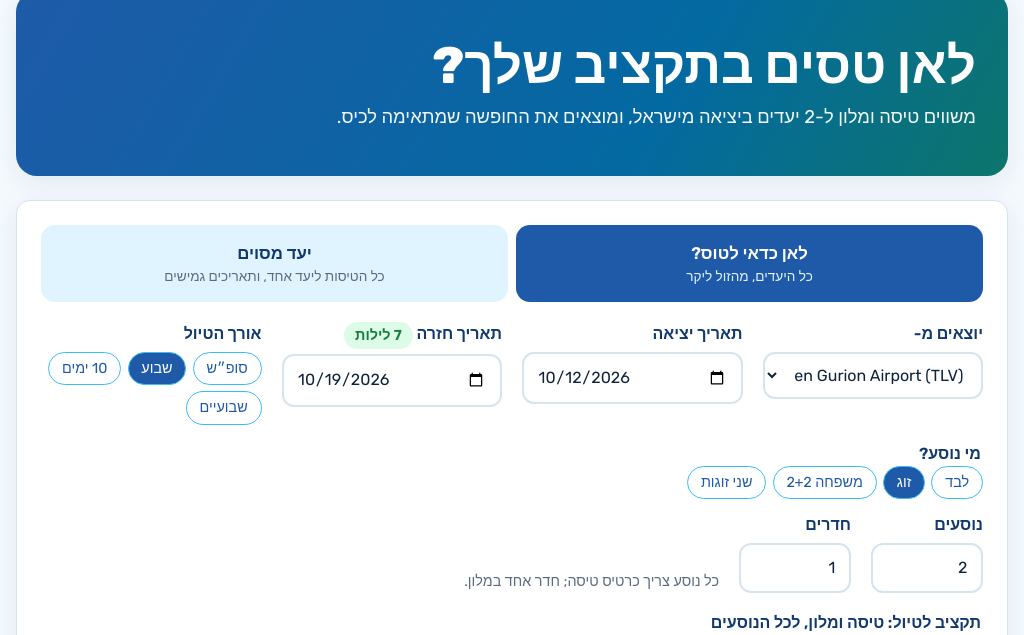
Scenario: the ranking shows the totals, with how fresh each price is
Type "2026-11-07" into the date field labelled "תאריך יציאה" at [632, 378], box [522,352,742,404]
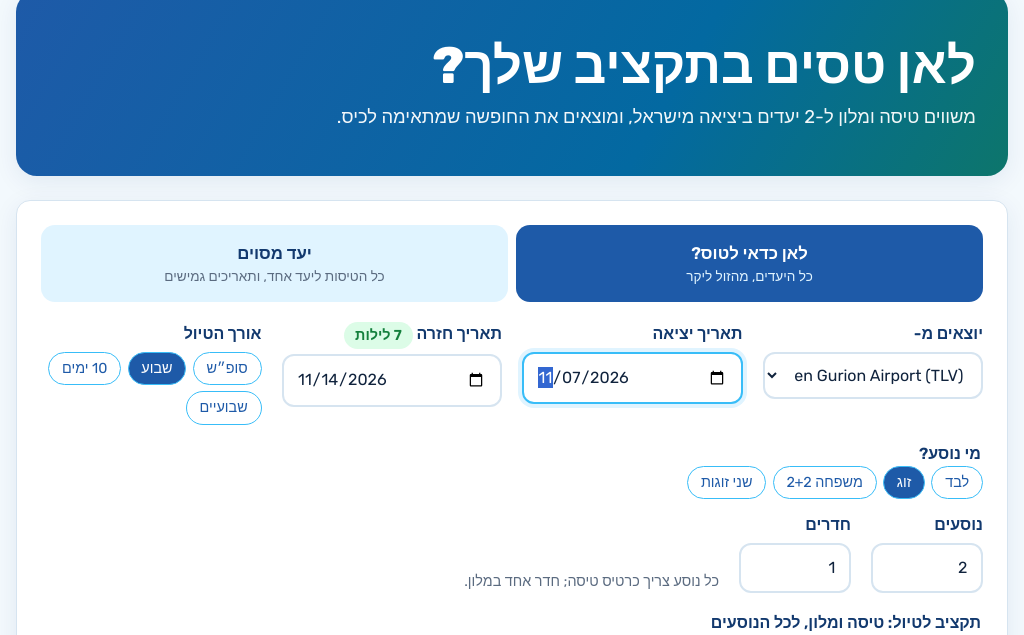
Clear the date field labelled "תאריך חזרה 7 לילות" at [392, 380], box [282,354,502,407]
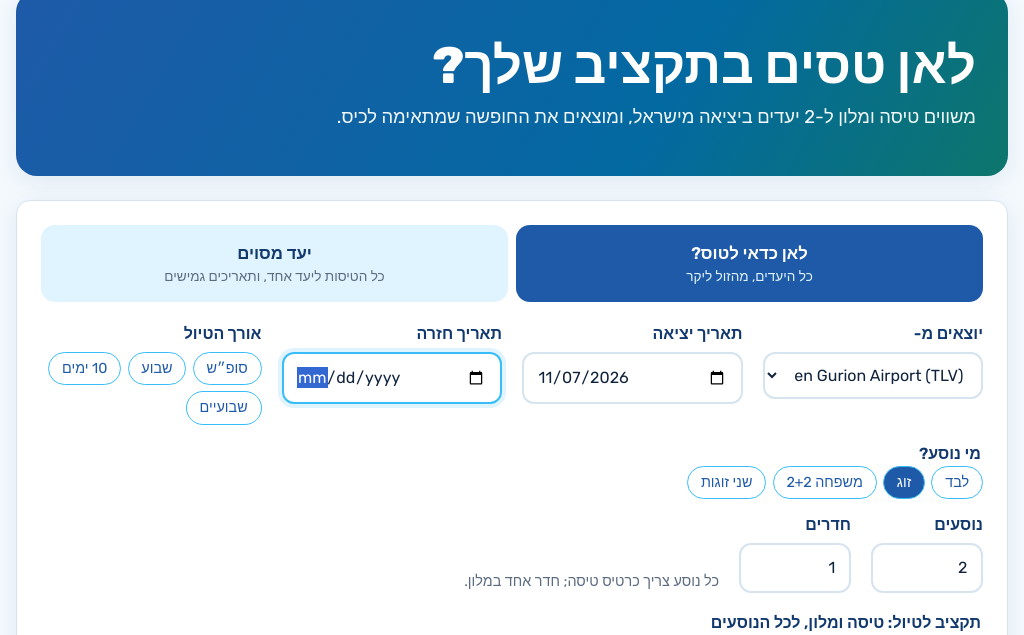
Type "2026-11-14" into the date field labelled "תאריך חזרה" at [392, 378], box [282,352,502,404]
(page scrolled)
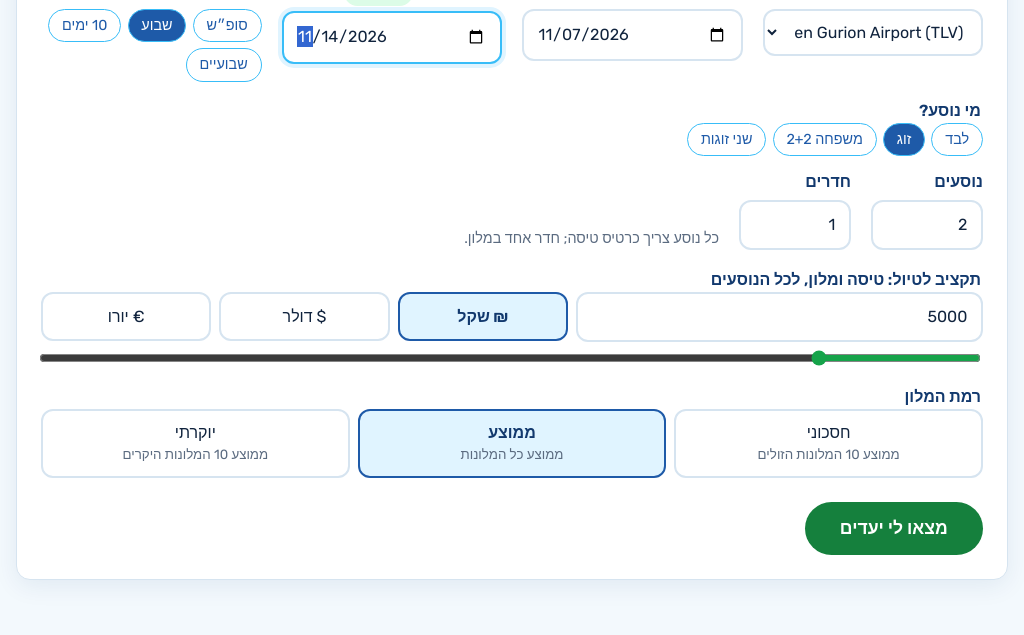
Replace the text in the number field named "תקציב" with "8000" at [780, 317], box [576,292,983,342]
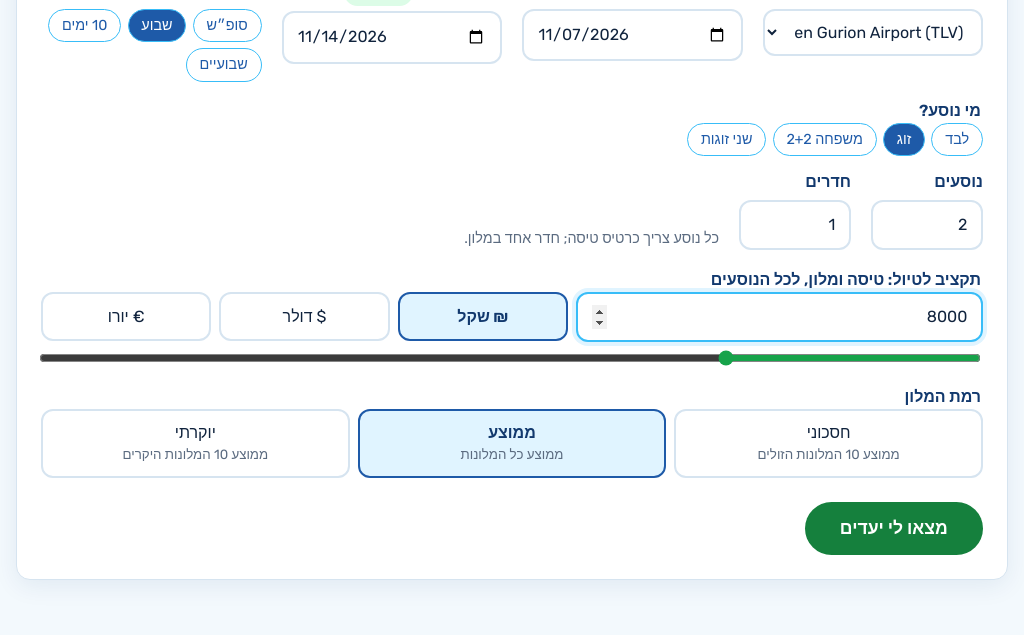
Click the button "מצאו לי יעדים" at [894, 529], box [805,502,983,556]
(page scrolled)
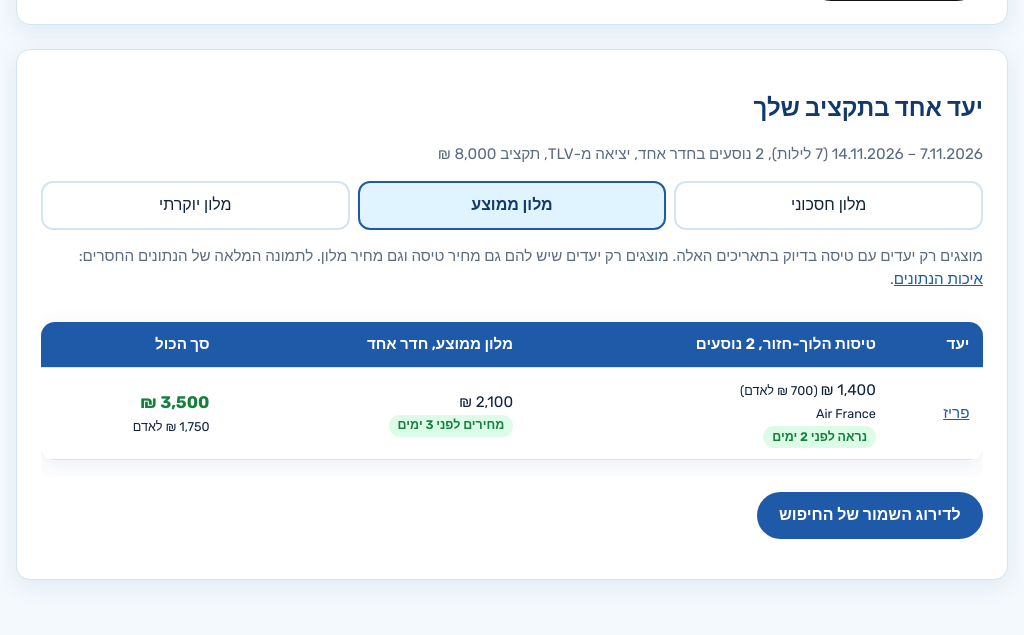
Check: the heading "יעד אחד בתקציב שלך" is shown, box [754,94,983,122]
